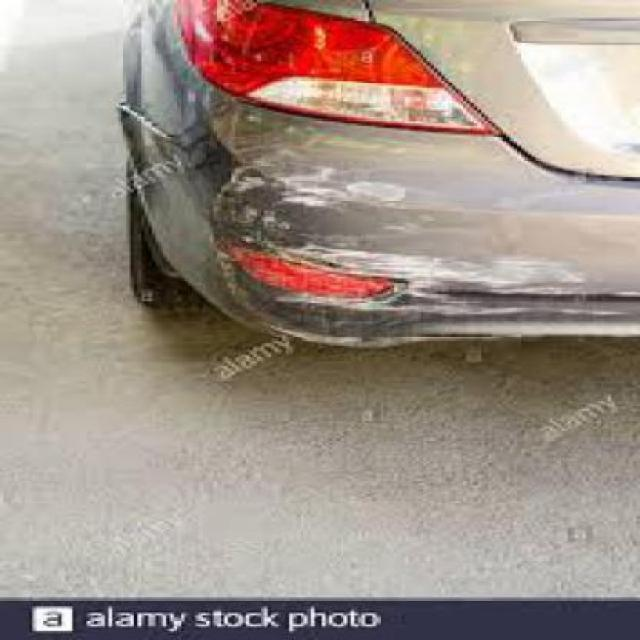rear-bumper-dent: (97, 103, 636, 402)
